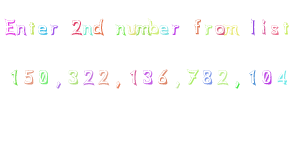,: (111, 76, 125, 95), (52, 78, 67, 95), (231, 77, 244, 94), (172, 80, 183, 91)
0: (36, 65, 52, 88), (261, 64, 275, 89)
1: (244, 64, 260, 87), (126, 67, 140, 86), (9, 67, 21, 88)
2: (216, 65, 232, 89), (96, 67, 113, 89), (81, 66, 96, 88), (69, 17, 83, 39)
3: (65, 63, 80, 87), (140, 67, 156, 88)
4: (276, 64, 293, 90)
5: (21, 65, 37, 88)
6: (156, 66, 172, 87)
7: (183, 66, 200, 87)
8: (200, 66, 215, 88)
E: (1, 15, 20, 39)
b: (147, 13, 158, 39)
d: (91, 14, 107, 38)
e: (158, 20, 170, 38), (37, 20, 48, 39)
f: (192, 15, 203, 38)
i: (257, 17, 269, 38)
l: (245, 15, 259, 36)
m: (222, 21, 241, 38), (136, 20, 149, 37)
n: (113, 17, 127, 38), (15, 23, 28, 39), (82, 23, 95, 39)
o: (214, 22, 226, 39)
r: (169, 17, 182, 39), (48, 23, 62, 39), (203, 23, 214, 38)
s: (268, 19, 281, 40)
t: (280, 16, 293, 37), (27, 18, 38, 35)
u: (125, 20, 138, 38)
